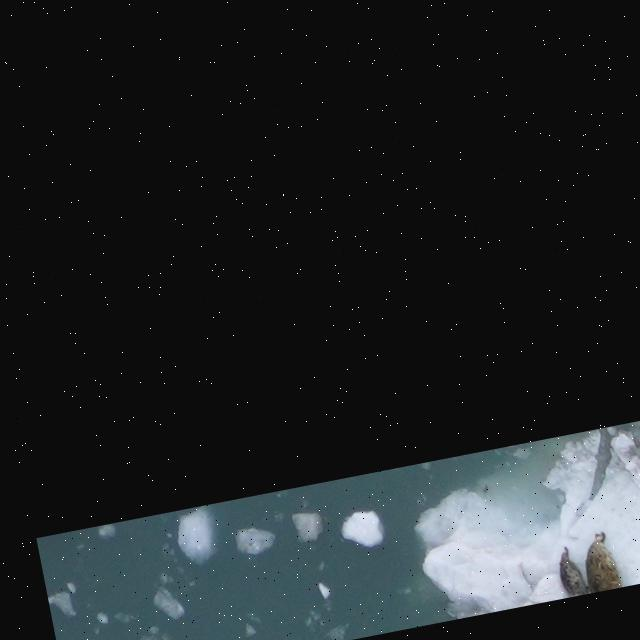seal: (576, 527, 627, 594), (553, 542, 590, 599)
